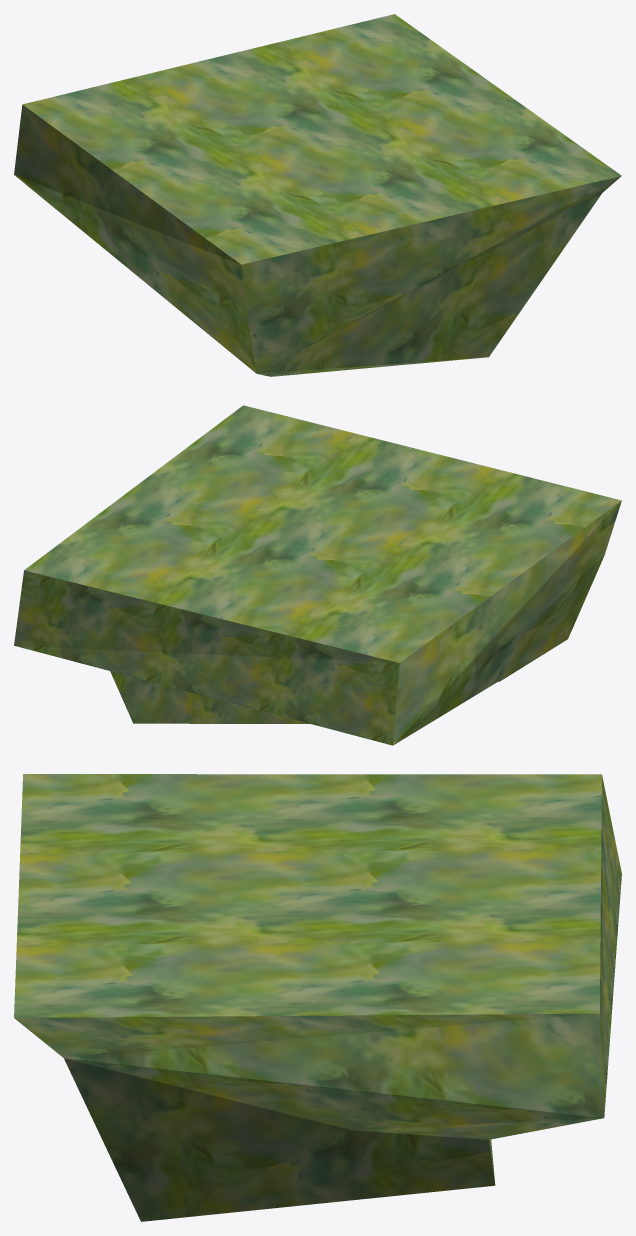
The model's file is Island_1_Floor_1.gltf.
The picture shows the model from 3 angles, top to bottom: view 1: azimuth 30°, elevation 25°; view 2: azimuth 150°, elevation 25°; view 3: azimuth 270°, elevation 25°; orthographic projection. The views are drawn at different scales.
Visible parts, largest first — view 1: Island_1_Floor_1; view 2: Island_1_Floor_1; view 3: Island_1_Floor_1.
Part boxes in pixels (x1,y1,x2,y2): Island_1_Floor_1: (14,14,621,376); Island_1_Floor_1: (14,405,621,745); Island_1_Floor_1: (14,774,621,1221).
Size of the model in its own units: 20.14 by 9.94 by 21.09.
Materials: 1 (1 with a texture image).
